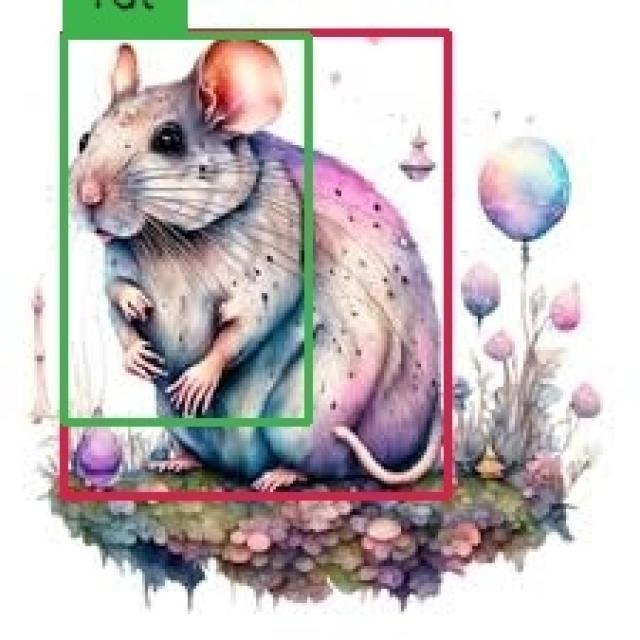rat: (64, 33, 448, 496), (65, 35, 310, 422)
